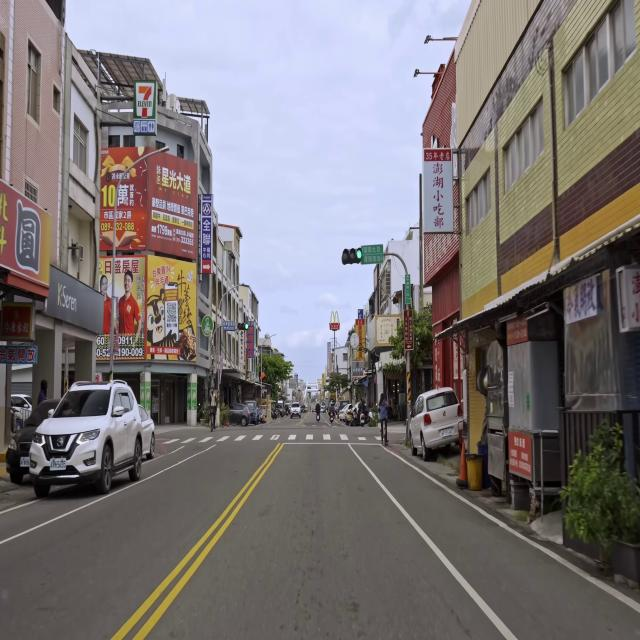green light: (341, 248, 363, 264), (238, 322, 248, 330)
